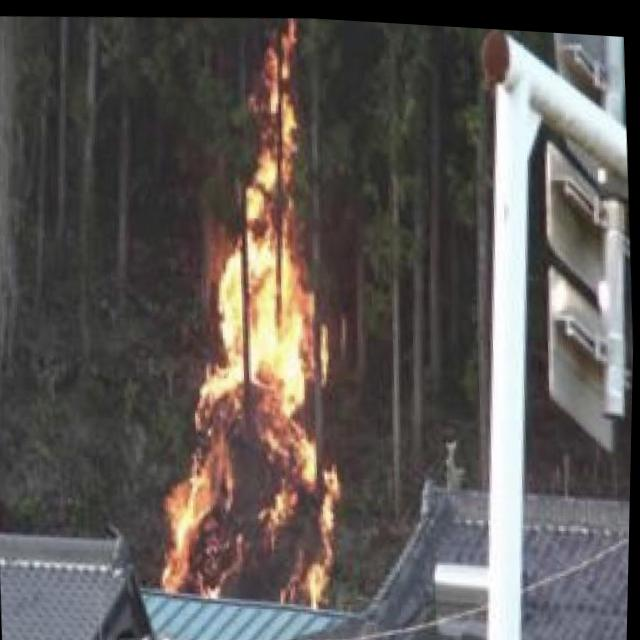Fire: (143, 15, 355, 610)
